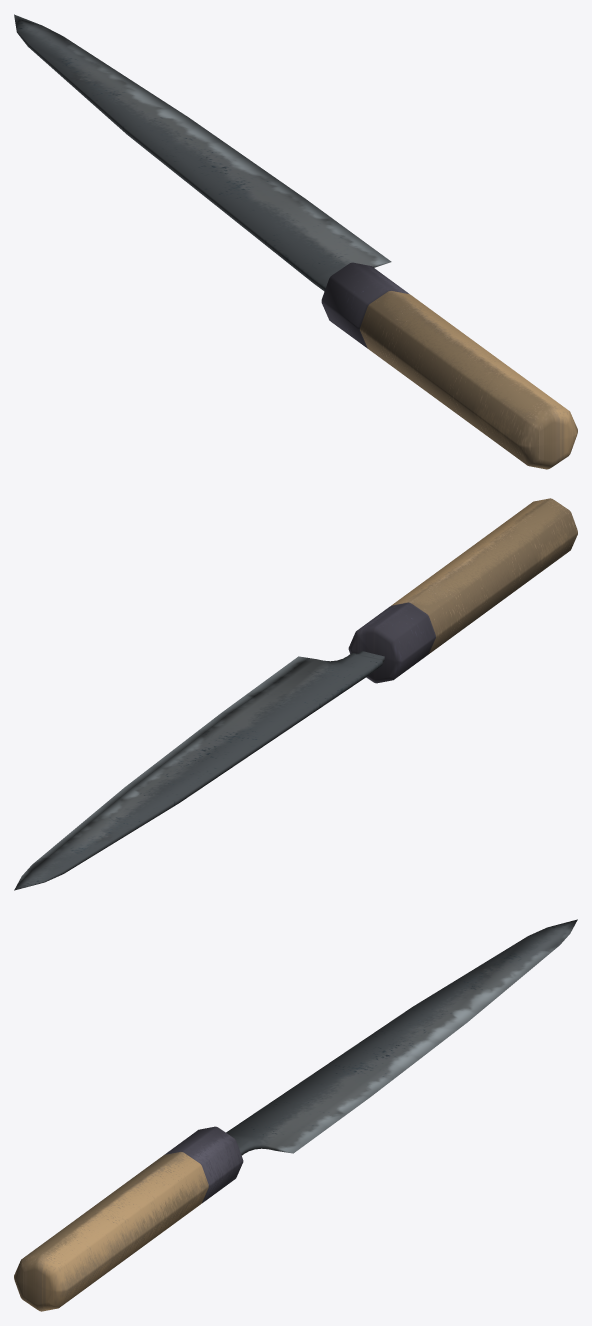
Rendered from CookingKnifeFilet.glb.
The picture shows the model from 3 angles, top to bottom: view 1: azimuth 30°, elevation 25°; view 2: azimuth 150°, elevation 25°; view 3: azimuth 330°, elevation 25°; orthographic projection. The views are drawn at different scales.
Parts seen in each view (by area): view 1: KitchenKnife1; view 2: KitchenKnife1; view 3: KitchenKnife1.
Part boxes in pixels (x1,y1,x2,y2): KitchenKnife1: (14, 14, 577, 469); KitchenKnife1: (14, 498, 577, 890); KitchenKnife1: (14, 919, 577, 1311).
Bounding box in the file's own units: 0.0672 × 0.0431 × 0.7164.
1 material, 1 textured.
